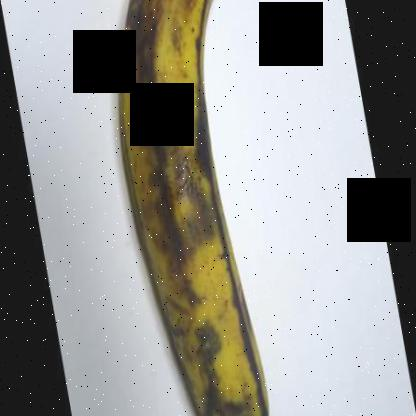overripe: (102, 0, 286, 415)
rotten: (149, 119, 238, 250)
